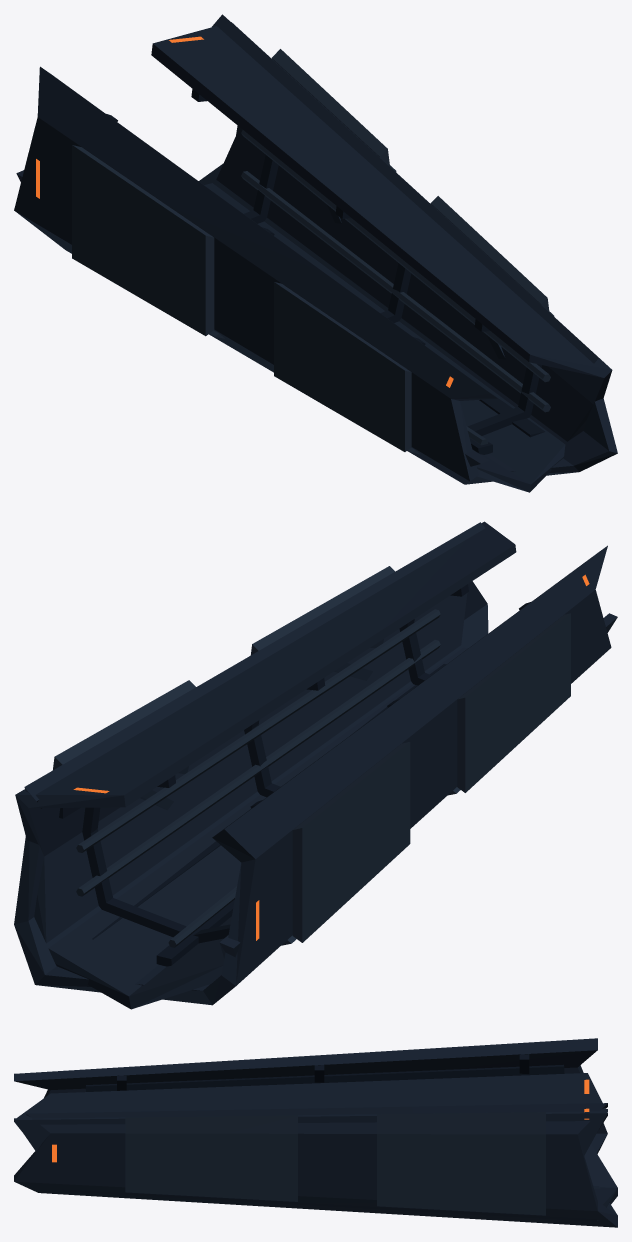
File: drifting-wreckage-kit.glb
3 renders of one model, top to bottom at view 1: azimuth 30°, elevation 25°; view 2: azimuth 150°, elevation 25°; view 3: azimuth 270°, elevation 25°, orthographic. The views are drawn at different scales.
Visible parts, largest first — view 1: gutter-keel--dark, sheared-chine--dark; view 2: sheared-chine--dark, gutter-keel--dark; view 3: gutter-keel--dark, sheared-chine--dark.
Boxes of the visible parts, x1,y1,x2,y2 form: gutter-keel--dark: (14, 14, 617, 484); sheared-chine--dark: (16, 22, 612, 492); sheared-chine--dark: (15, 521, 617, 1009); gutter-keel--dark: (14, 522, 611, 1005); gutter-keel--dark: (14, 1038, 617, 1227); sheared-chine--dark: (14, 1073, 617, 1221).
Bounding box in the file's own units: 0.5335 × 0.4129 × 1.68.
